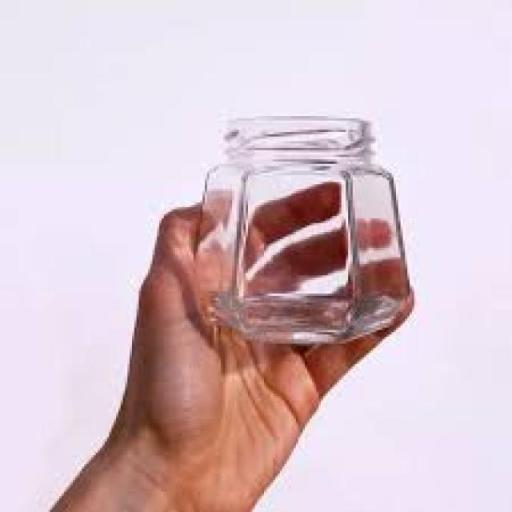glass: (197, 116, 412, 346)
